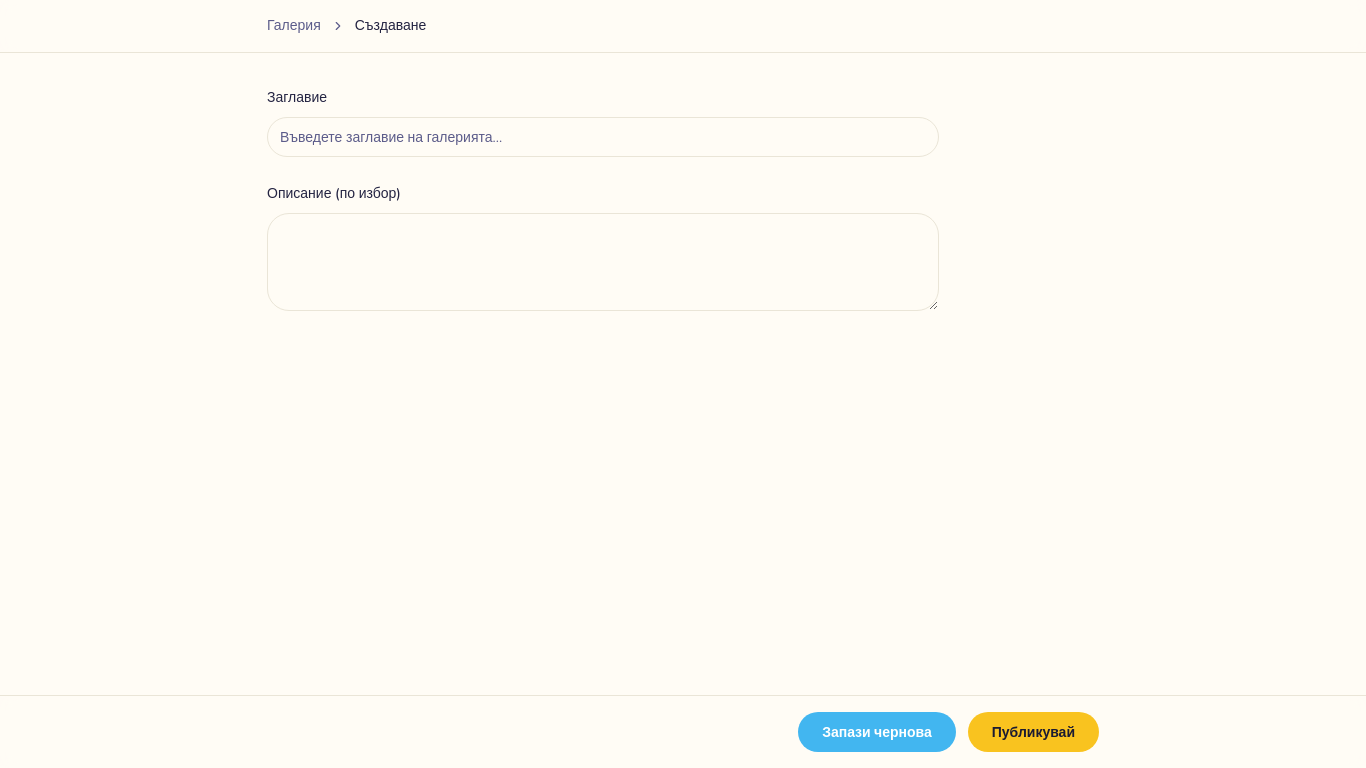
GalleryCreate › both buttons are disabled while saving
Type "Тест галерия" into the field labelled "Заглавие" at (603, 137), box [267,117,939,157]
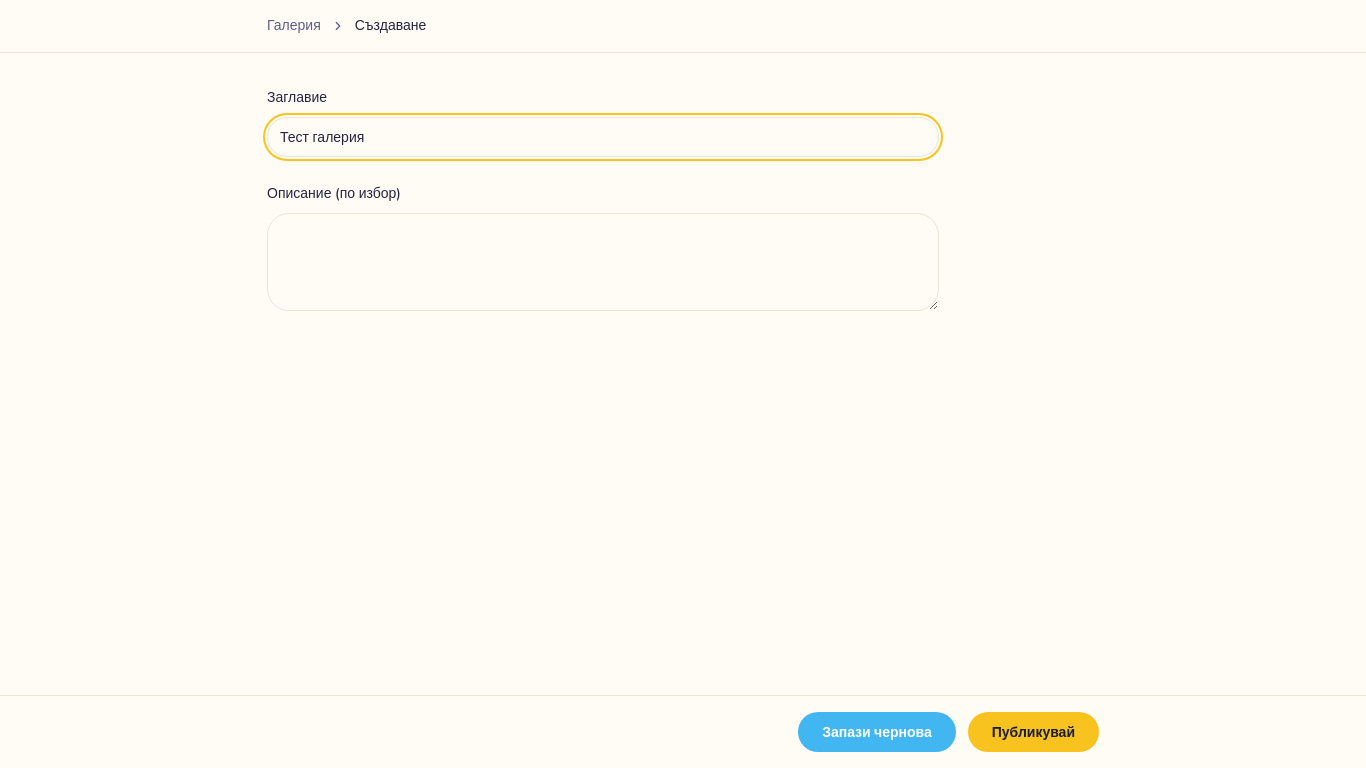
Note: Click save draft — triggers in-flight request
Click the button "Запази чернова" at (877, 732), box [798,712,956,752]
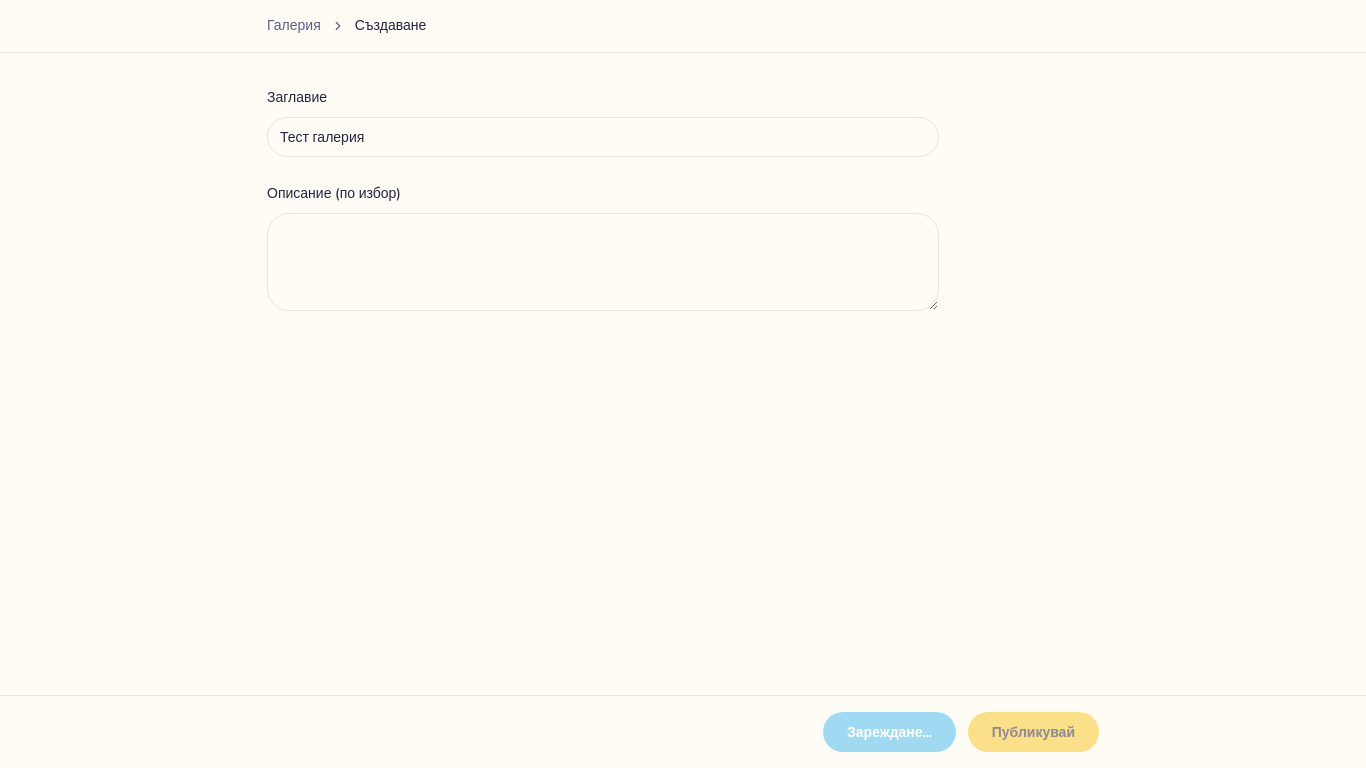
Expected: the button "Запази чернова" is disabled, [823,712,956,752]
Expected: the button "Публикувай" is disabled, [968,712,1099,752]
